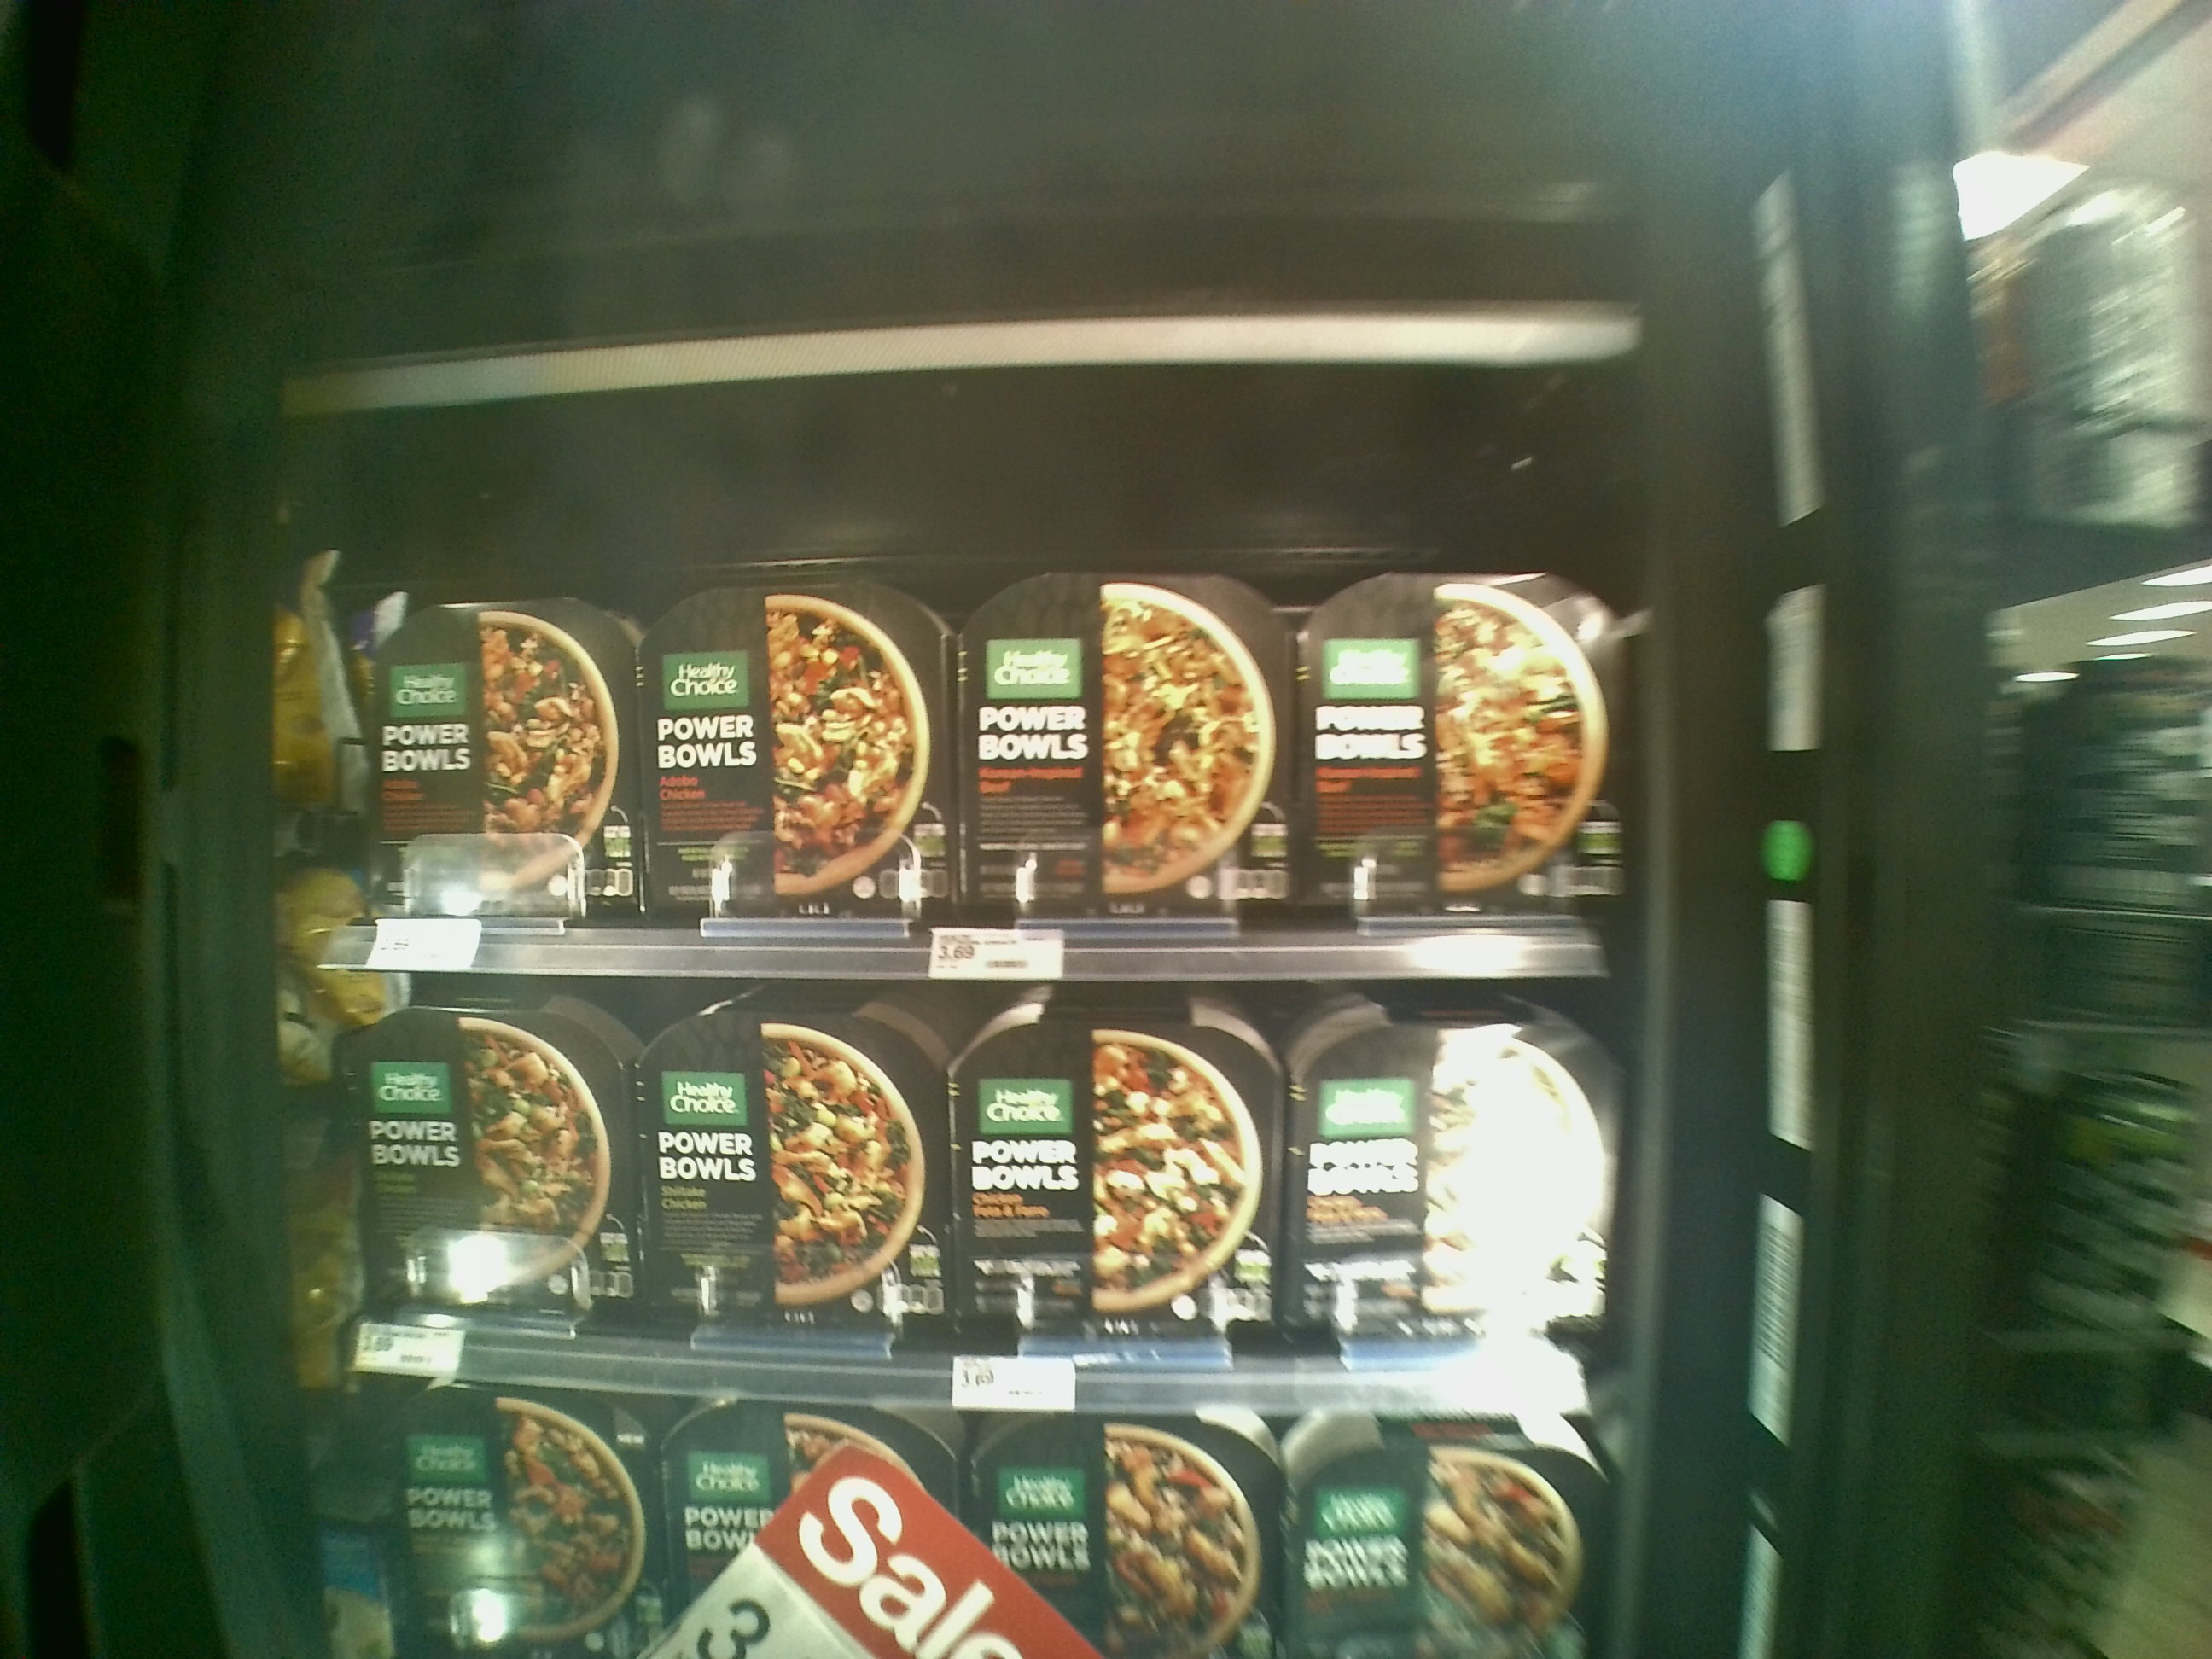shelf: (307, 301, 1625, 978), (336, 967, 1635, 1431)
